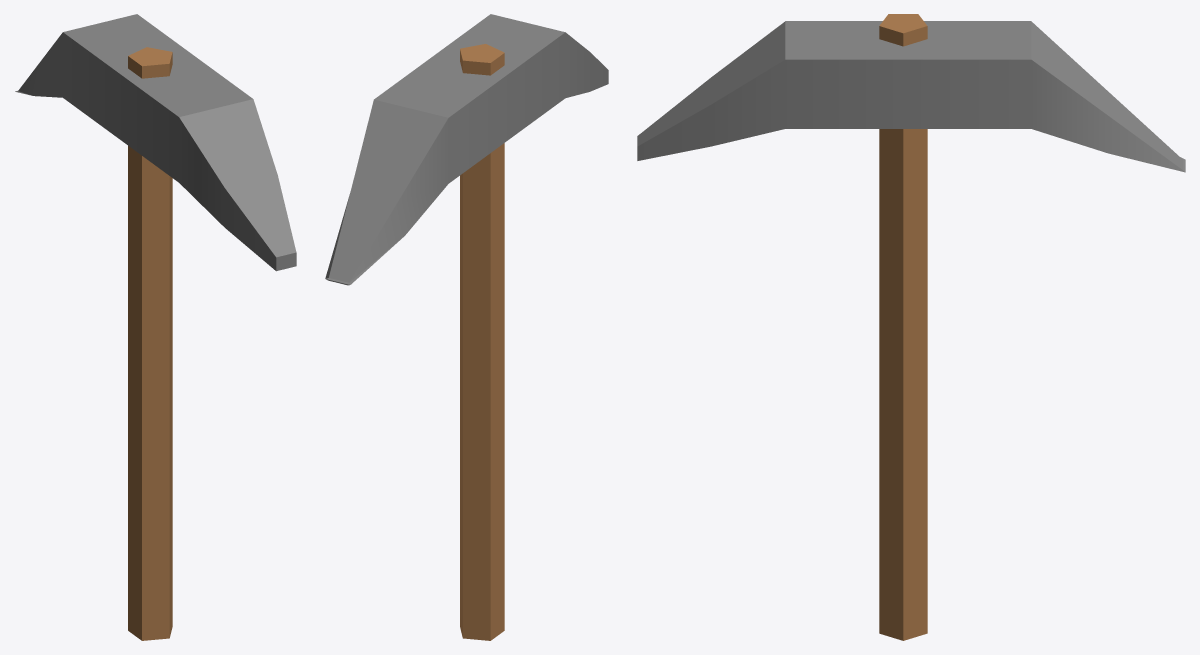
Rendered from pickaxe.fbx.
The picture shows the model from 3 angles, left to right: view 1: azimuth 30°, elevation 25°; view 2: azimuth 150°, elevation 25°; view 3: azimuth 270°, elevation 25°; orthographic projection. The views are drawn at different scales.
Visible parts, largest first — view 1: pCube1, pCylinder1; view 2: pCube1, pCylinder1; view 3: pCube1, pCylinder1.
Part boxes in pixels (bbox=[...]): pCube1: bbox=[15, 14, 296, 271]; pCylinder1: bbox=[128, 47, 172, 640]; pCube1: bbox=[325, 14, 608, 285]; pCylinder1: bbox=[460, 44, 504, 640]; pCube1: bbox=[637, 21, 1185, 172]; pCylinder1: bbox=[879, 14, 927, 640].
Size of the model in its own units: 0.8402 by 6.21 by 5.08.
